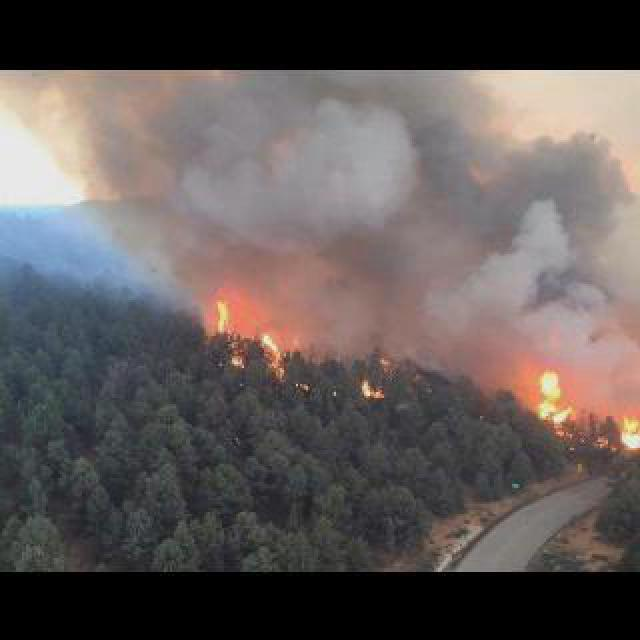Fire: (530, 370, 580, 430), (212, 292, 244, 364), (608, 408, 638, 456), (260, 334, 282, 374), (358, 382, 386, 400)
Smoke: (2, 68, 640, 362)
